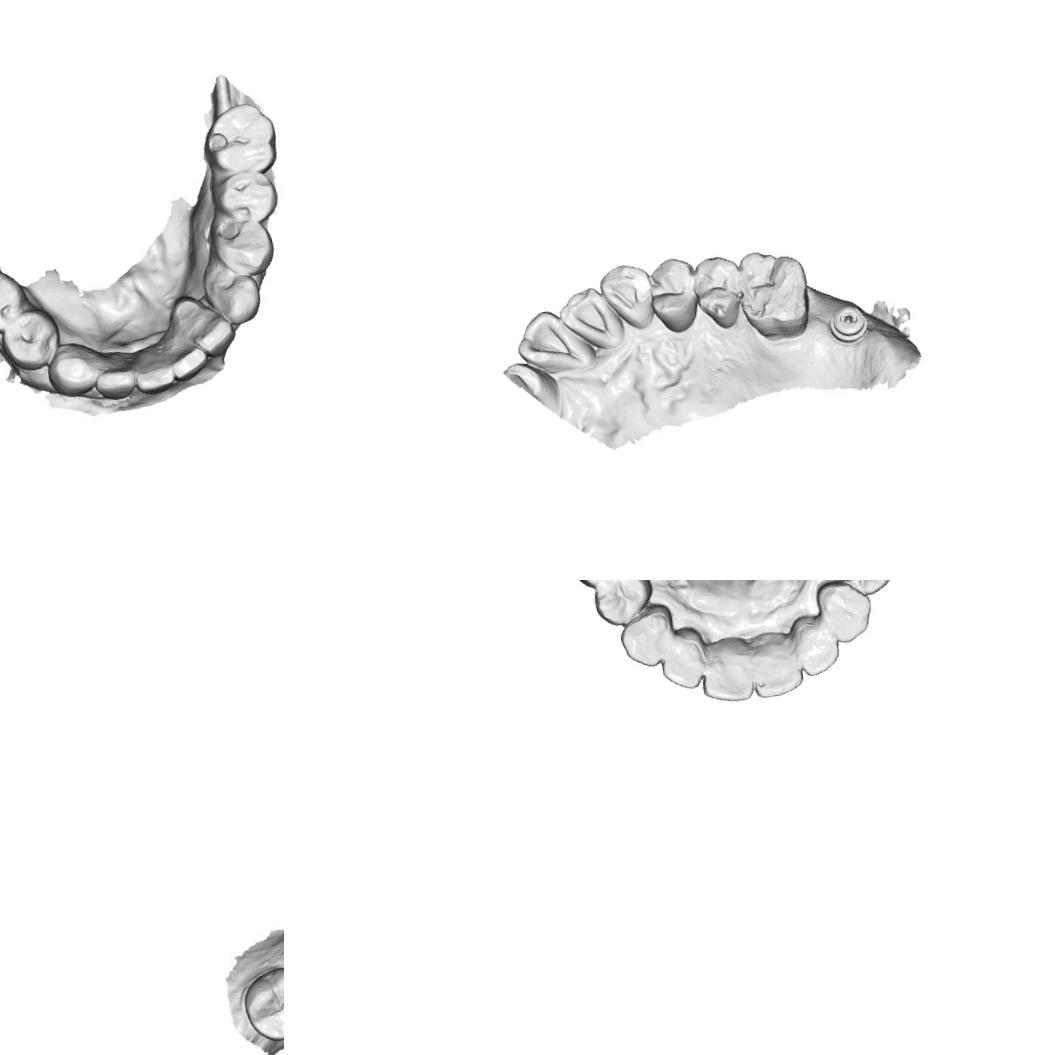canine: (597, 260, 660, 336), (812, 580, 877, 648), (616, 608, 674, 672), (206, 267, 264, 330), (44, 338, 102, 400)
implant_minus: (822, 300, 873, 348)
incisor: (512, 303, 600, 380), (553, 282, 627, 357), (695, 633, 756, 707), (745, 628, 807, 700), (176, 296, 238, 358), (788, 612, 844, 680), (654, 633, 708, 695), (165, 338, 212, 386), (131, 348, 176, 398), (93, 358, 137, 404)
molar: (733, 244, 816, 346), (198, 98, 278, 180), (237, 961, 284, 1047)
premolar: (644, 254, 704, 338), (688, 252, 748, 335), (207, 214, 282, 278), (0, 304, 67, 373), (209, 168, 280, 230), (589, 580, 658, 630), (0, 265, 27, 341), (827, 580, 896, 602)
